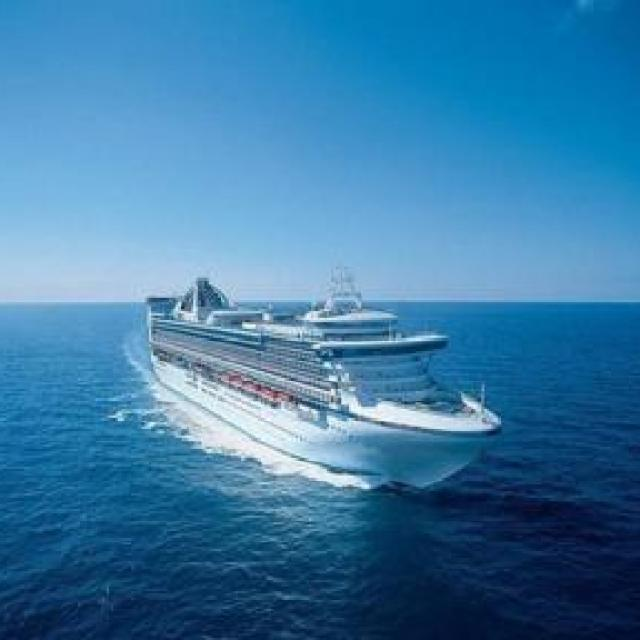passenger ship: (142, 270, 497, 488)
